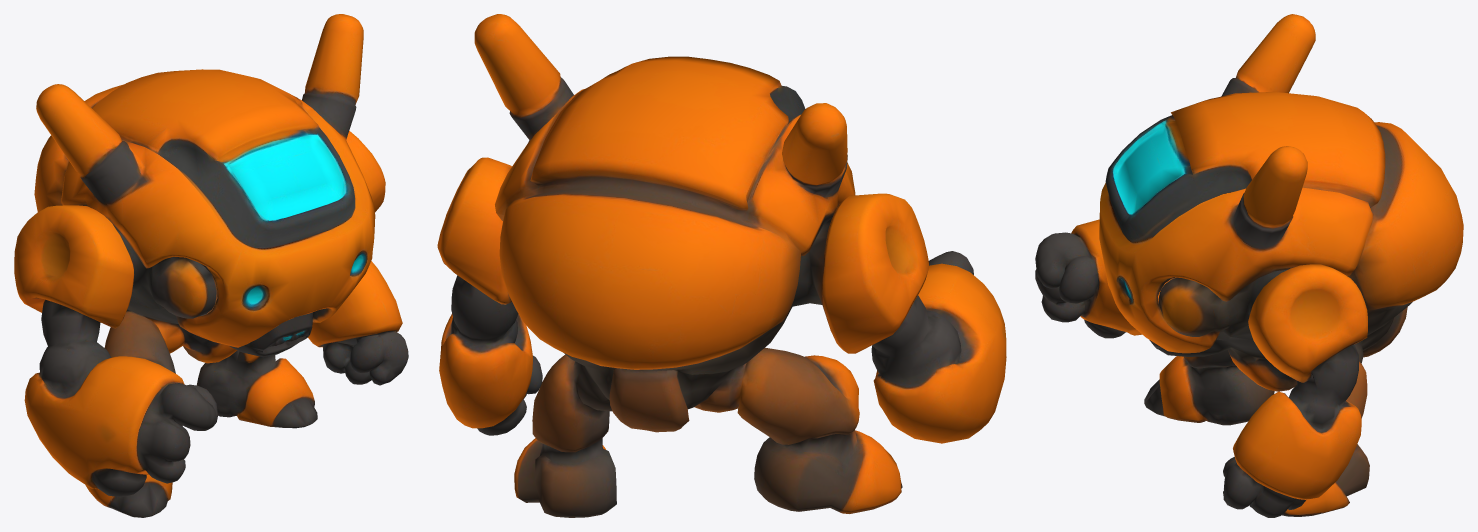
The model's file is avatar20.glb.
The picture shows the model from 3 angles, left to right: view 1: azimuth 30°, elevation 25°; view 2: azimuth 150°, elevation 25°; view 3: azimuth 270°, elevation 25°; orthographic projection. The views are drawn at different scales.
Visible parts, largest first — view 1: tripo_node_7a8050f3-7271-4609-ae37-9e899ad8f2cb; view 2: tripo_node_7a8050f3-7271-4609-ae37-9e899ad8f2cb; view 3: tripo_node_7a8050f3-7271-4609-ae37-9e899ad8f2cb.
Boxes of the visible parts, left/top/right/bottom form: tripo_node_7a8050f3-7271-4609-ae37-9e899ad8f2cb: left=14, top=14, right=408, bottom=517; tripo_node_7a8050f3-7271-4609-ae37-9e899ad8f2cb: left=437, top=14, right=1006, bottom=517; tripo_node_7a8050f3-7271-4609-ae37-9e899ad8f2cb: left=1035, top=14, right=1463, bottom=517.
Bounding box in the file's own units: 0.998 × 0.9199 × 0.9277.
Materials: 1 (1 with a texture image).
